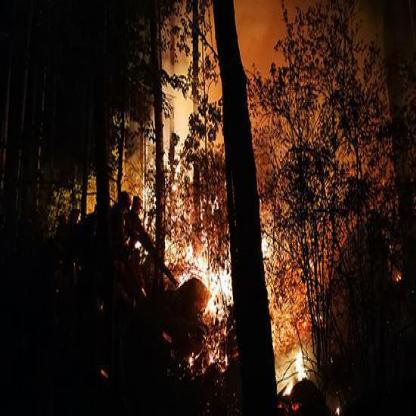fire: (258, 230, 322, 378), (165, 217, 233, 320)
